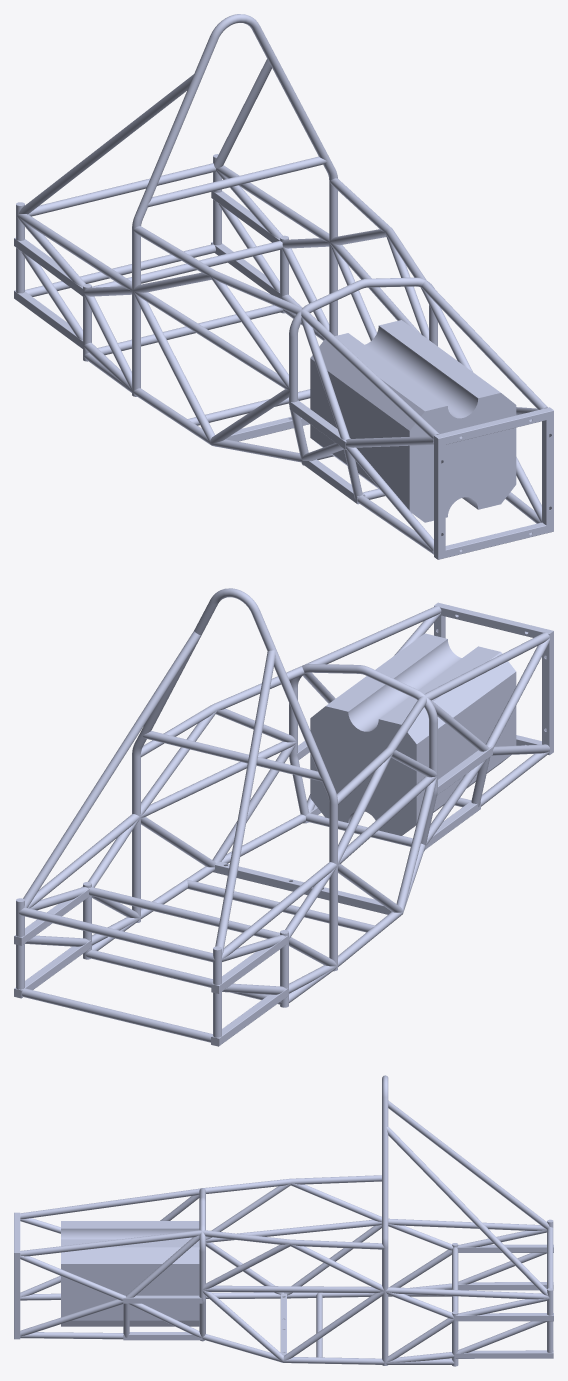
File: 23-24+Chassis+v7.fbx
3 renders of one model, top to bottom at view 1: azimuth 30°, elevation 25°; view 2: azimuth 150°, elevation 25°; view 3: azimuth 270°, elevation 25°, orthographic. The views are drawn at different scales.
Parts seen in each view (by area): view 1: Body2, Body54, Body23, Body44, Body58, Body26, Body14, Body42, Body13, Body22, Body25, Body8 (+37 smaller); view 2: Body2, Body54, Body23, Body43, Body44, Body42, Body38, Body75, Body34, Body26, Body72, Body57 (+33 smaller); view 3: Body2, Body54, Body43, Body44, Body14, Body13, Body57, Body58, Body21, Body68, Body22, Body71 (+38 smaller).
Boxes of the visible parts, x1,y1,x2,y2 form: Body2: (310,320,516,522); Body54: (132,14,337,396); Body23: (289,277,437,465); Body44: (18,74,193,214); Body58: (133,226,301,314); Body26: (147,156,327,207); Body14: (301,310,439,440); Body42: (28,163,215,216); Body13: (421,280,547,409); Body22: (134,291,288,389); Body25: (133,291,214,442); Body8: (434,407,553,444); Body2: (310,633,516,835); Body54: (132,588,337,971); Body23: (289,664,437,851); Body43: (23,631,201,907); Body44: (215,650,275,955); Body42: (18,907,214,962); Body38: (22,988,212,1042); Body75: (213,862,391,914); Body34: (89,887,279,938); Body26: (142,731,322,781); Body72: (187,880,375,932); Body57: (140,666,304,757); Body2: (61,1221,199,1326); Body54: (382,1075,388,1365); Body43: (386,1126,548,1296); Body44: (388,1100,549,1229); Body14: (20,1188,200,1218); Body13: (20,1230,201,1256); Body57: (202,1230,384,1249); Body58: (204,1175,381,1193); Body21: (203,1285,383,1293); Body68: (385,1287,549,1299); Body22: (205,1220,381,1242); Body71: (388,1218,546,1230).
Size of the model in its own units: 26.5 by 44.06 by 85.08.
